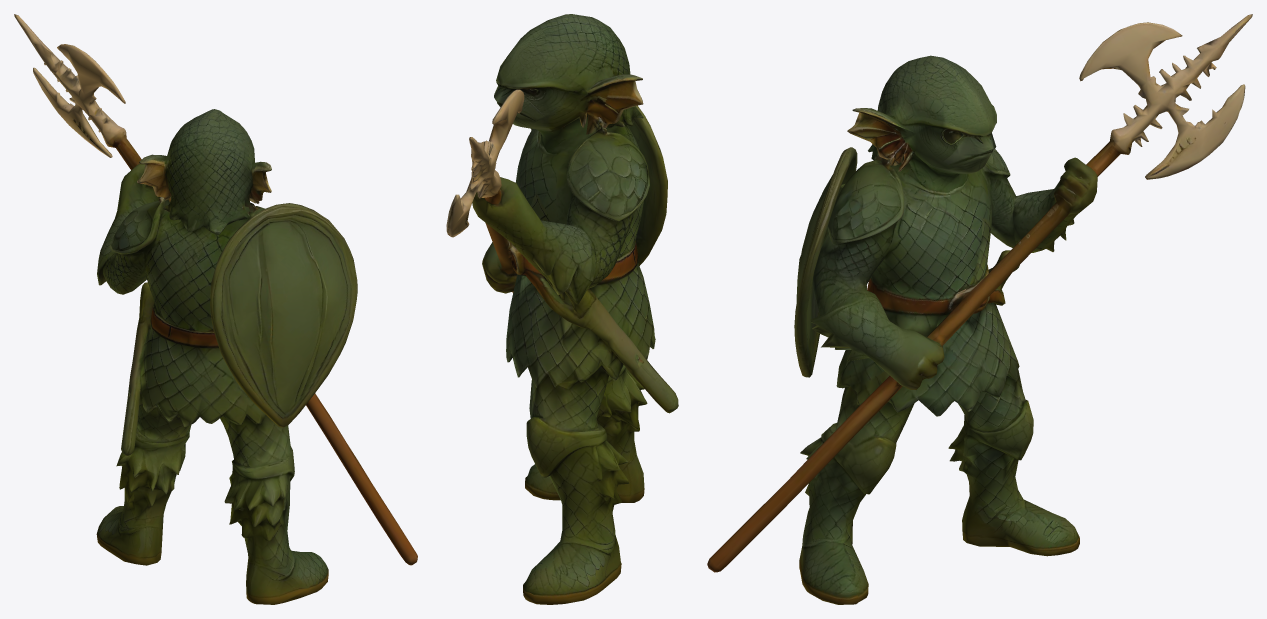
3 renders of one model, left to right at view 1: azimuth 30°, elevation 25°; view 2: azimuth 150°, elevation 25°; view 3: azimuth 270°, elevation 25°, orthographic. The views are drawn at different scales.
Parts seen in each view (by area): view 1: tripo_node_f953d839-af23-4edf-957d-5ad84bfb77f6; view 2: tripo_node_f953d839-af23-4edf-957d-5ad84bfb77f6; view 3: tripo_node_f953d839-af23-4edf-957d-5ad84bfb77f6.
Part boxes in pixels (x1,y1,x2,y2): tripo_node_f953d839-af23-4edf-957d-5ad84bfb77f6: [14, 14, 417, 604]; tripo_node_f953d839-af23-4edf-957d-5ad84bfb77f6: [446, 14, 678, 604]; tripo_node_f953d839-af23-4edf-957d-5ad84bfb77f6: [707, 14, 1252, 604].
Size of the model in its own units: 0.4535 by 0.9985 by 0.9483.
1 material, 1 textured.
